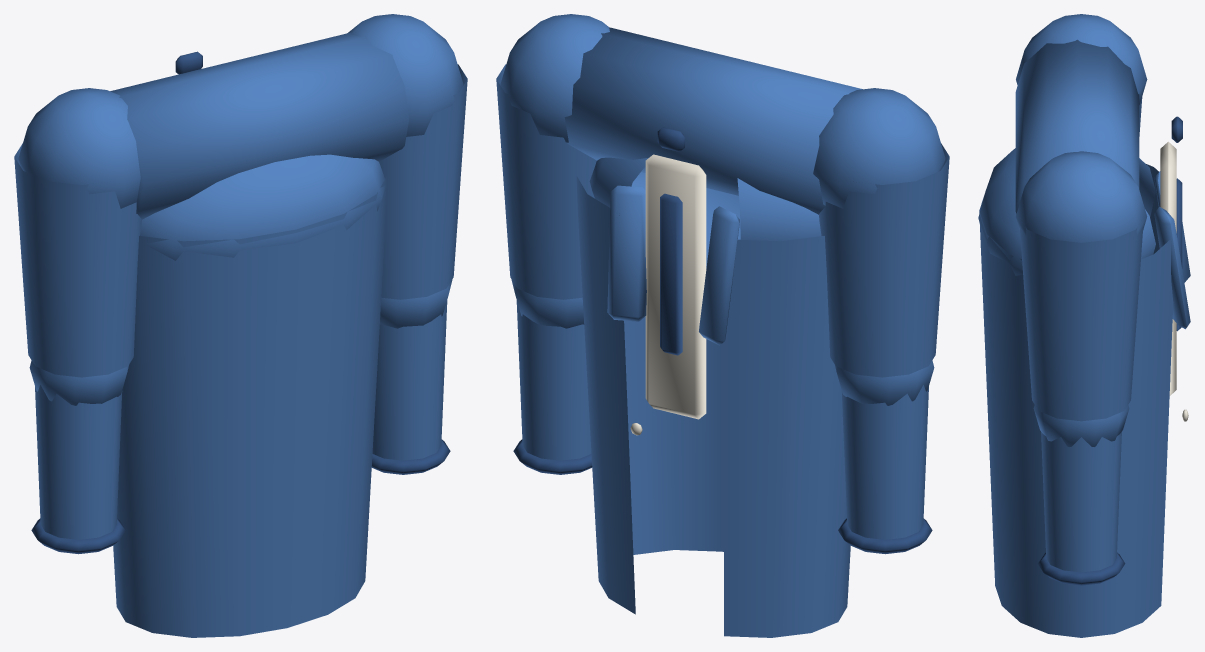
Rendered from top_suit.glb.
3 renders of one model, left to right at view 1: azimuth 30°, elevation 25°; view 2: azimuth 150°, elevation 25°; view 3: azimuth 270°, elevation 25°, orthographic. The views are drawn at different scales.
Parts seen in each view (by area): view 1: Body, ArmL, ArmR, ForeArmL, ForeArmR; view 2: Body, ArmL, ArmR, ForeArmL, ForeArmR; view 3: Body, ArmR, ForeArmR, ArmL.
Boxes of the visible parts, x1=… form: Body: x1=110, y1=32, x2=408, y2=637; ArmL: x1=14, y1=88, x2=141, y2=405; ArmR: x1=347, y1=14, x2=467, y2=328; ForeArmL: x1=31, y1=385, x2=125, y2=554; ForeArmR: x1=371, y1=300, x2=450, y2=474; Body: x1=564, y1=27, x2=862, y2=637; ArmL: x1=813, y1=88, x2=949, y2=405; ArmR: x1=496, y1=14, x2=609, y2=328; ForeArmL: x1=838, y1=385, x2=932, y2=554; ForeArmR: x1=513, y1=300, x2=592, y2=474; Body: x1=978, y1=39, x2=1190, y2=637; ArmR: x1=1016, y1=151, x2=1147, y2=446; ForeArmR: x1=1037, y1=432, x2=1125, y2=585; ArmL: x1=1016, y1=14, x2=1147, y2=136.
Size of the model in its own units: 0.574 by 0.676 by 0.2617.
